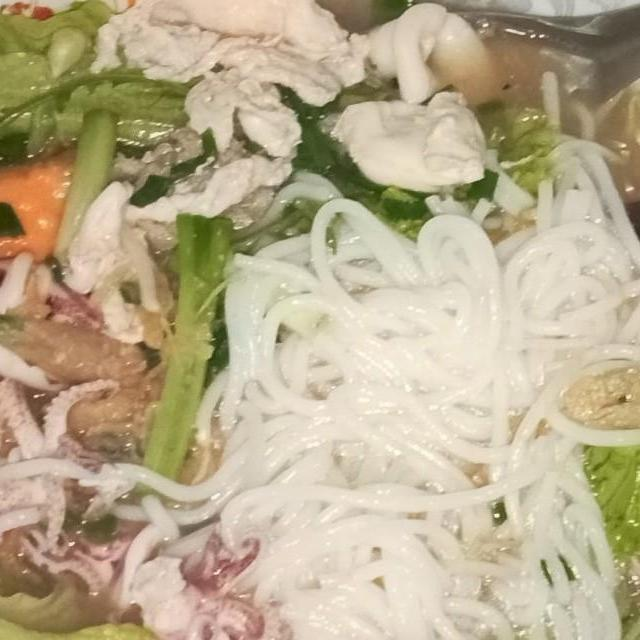bun: (80, 133, 640, 640)
muc: (0, 361, 158, 604), (0, 218, 146, 400), (104, 518, 288, 640), (340, 0, 500, 108)
trung: (80, 0, 375, 232), (318, 81, 502, 198)
